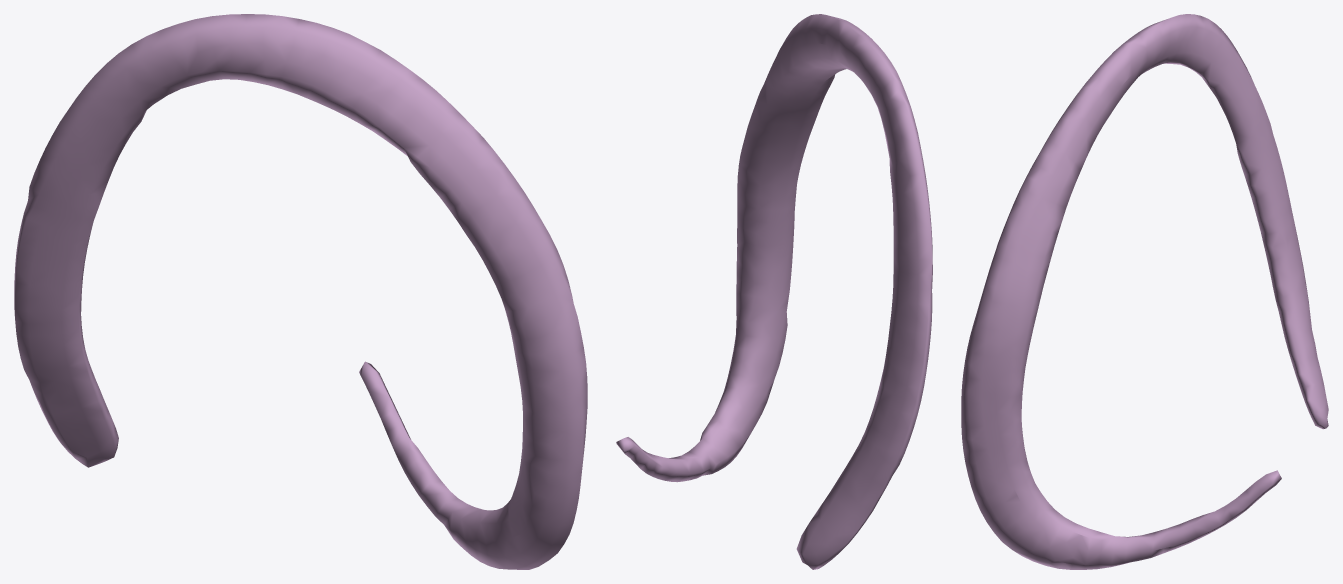
3 renders of one model, left to right at view 1: azimuth 30°, elevation 25°; view 2: azimuth 150°, elevation 25°; view 3: azimuth 270°, elevation 25°, orthographic. The views are drawn at different scales.
Visible parts, largest first — view 1: 右侧穹窿; view 2: 右侧穹窿; view 3: 右侧穹窿.
Boxes of the visible parts, x1,y1,x2,y2 form: 右侧穹窿: (14,14,587,569); 右侧穹窿: (616,14,932,569); 右侧穹窿: (961,14,1328,569).
Size of the model in its own units: 0.045 by 0.0636 by 0.0457.
